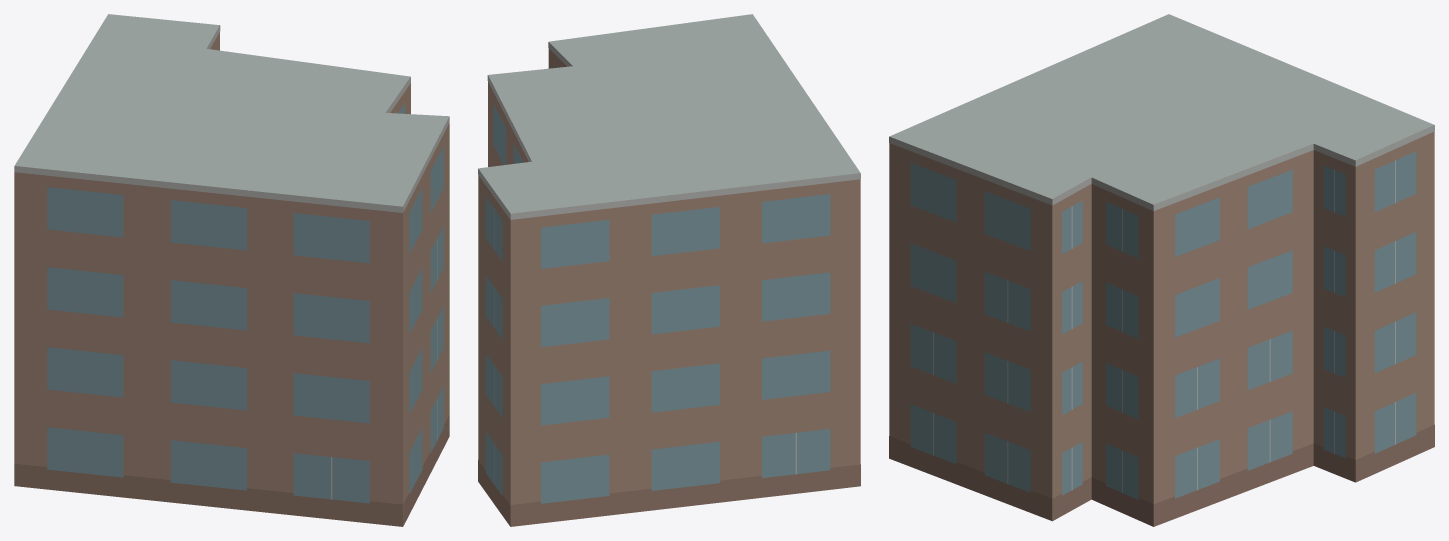
Rendered from survey-upis-32465786.glb.
3 views of the same model, side by side, from view 1: azimuth 30°, elevation 25°; view 2: azimuth 150°, elevation 25°; view 3: azimuth 270°, elevation 25° (orthographic). The views are drawn at different scales.
Parts seen in each view (by area): view 1: survey-upis-32465786.tmp; view 2: survey-upis-32465786.tmp; view 3: survey-upis-32465786.tmp.
Part boxes in pixels (x1,y1,x2,y2): survey-upis-32465786.tmp: (14,14,449,526); survey-upis-32465786.tmp: (478,14,860,526); survey-upis-32465786.tmp: (889,14,1434,526).
Size of the model in its own units: 15.77 by 12.4 by 19.05.
